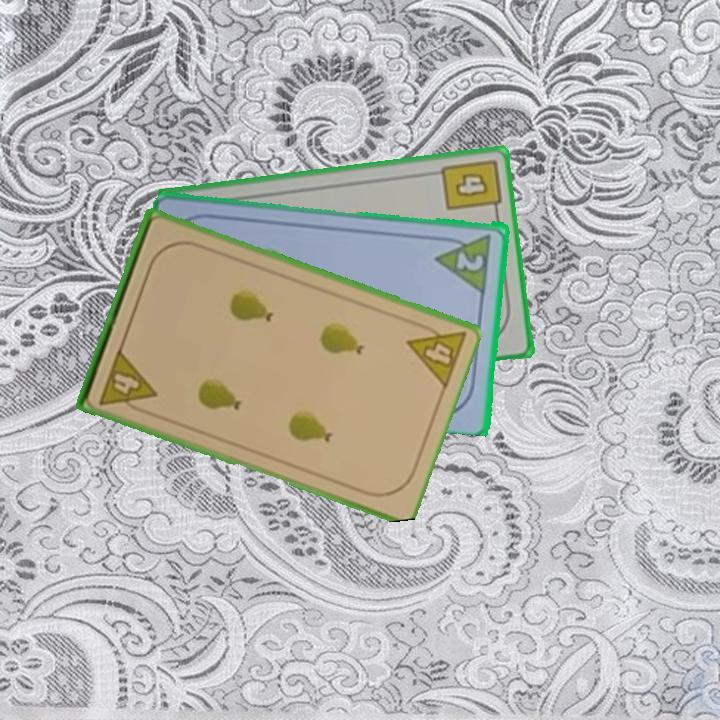2p: (433, 230, 495, 294)
4b: (438, 155, 504, 219)
4p: (403, 316, 469, 391), (96, 345, 159, 417)
